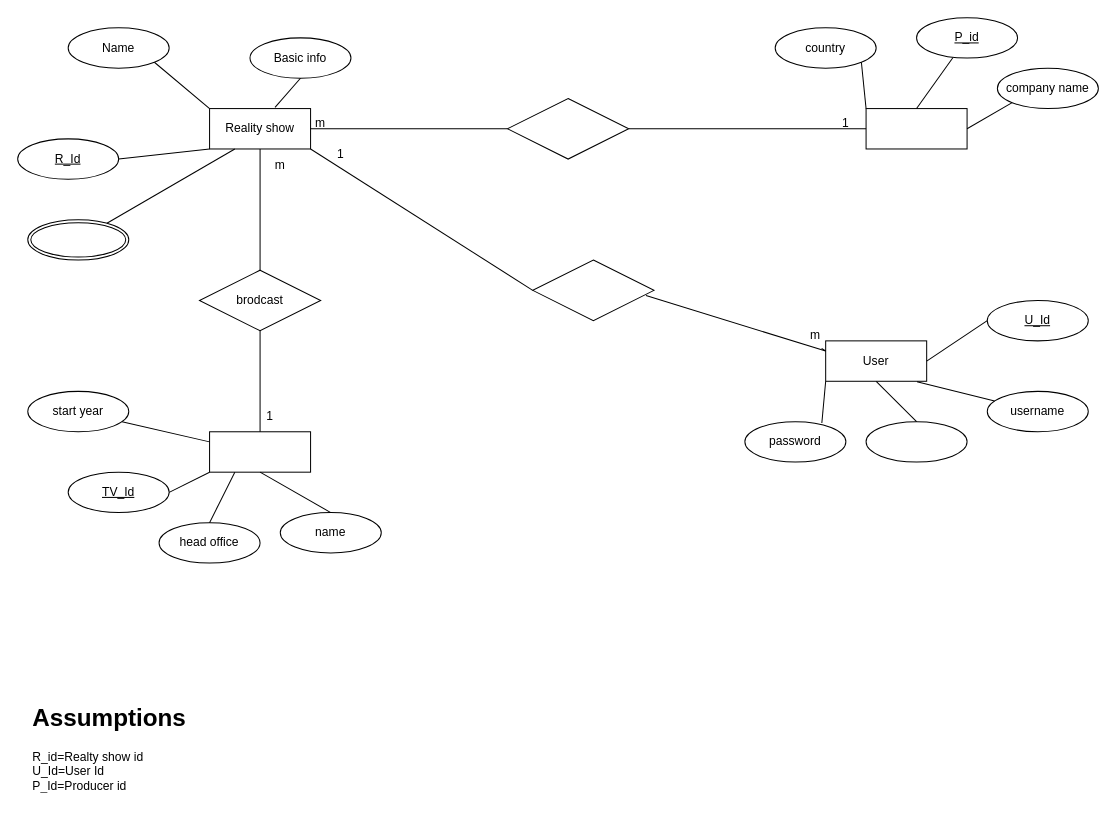
Image size: 1116x837. Some labels were removed from this diagram. Each missing label, with the centre of its shape:
age: point 916,441
participant: point 78,239
produce by: point 568,128
Producer: point 916,128
rate: point 593,290
TV channel: point 260,451
